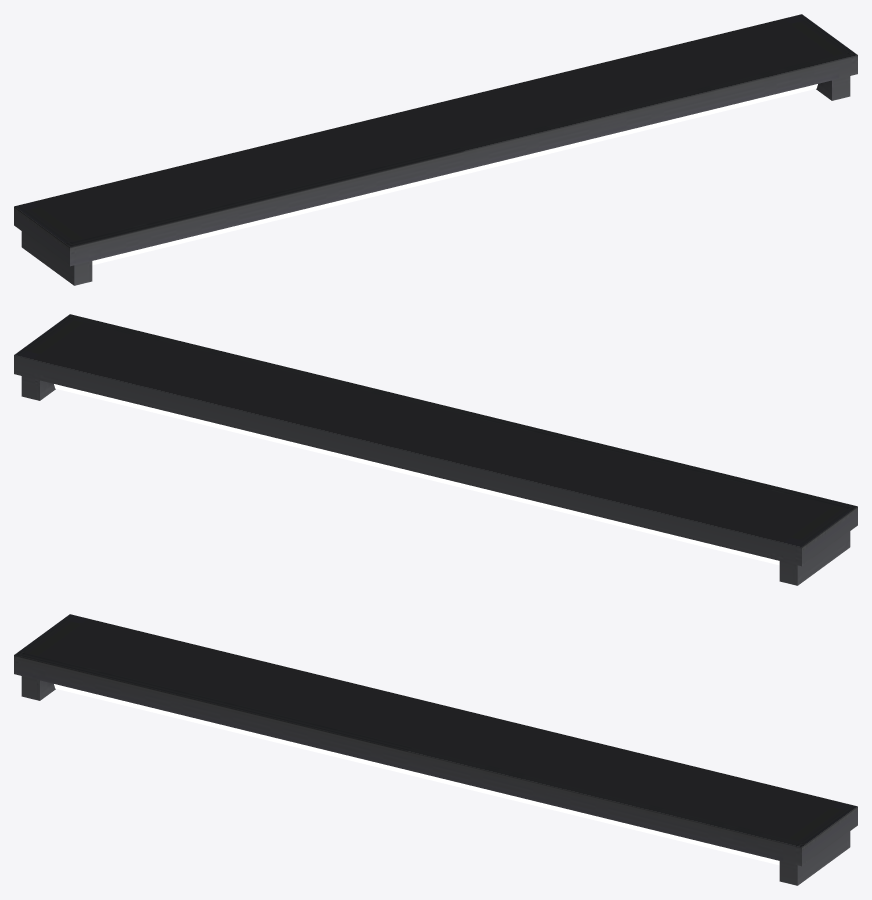
The model's file is fluorescent.glb.
3 renders of one model, top to bottom at view 1: azimuth 30°, elevation 25°; view 2: azimuth 150°, elevation 25°; view 3: azimuth 330°, elevation 25°, orthographic.
Visible parts, largest first — view 1: Fixture; view 2: Fixture; view 3: Fixture.
Part boxes in pixels (bbox=[...]): Fixture: bbox=[14, 14, 857, 285]; Fixture: bbox=[14, 314, 857, 585]; Fixture: bbox=[14, 614, 857, 885].
Bounding box in the file's own units: 2.6 × 0.1301 × 0.3199.
2 materials, 2 textured.
